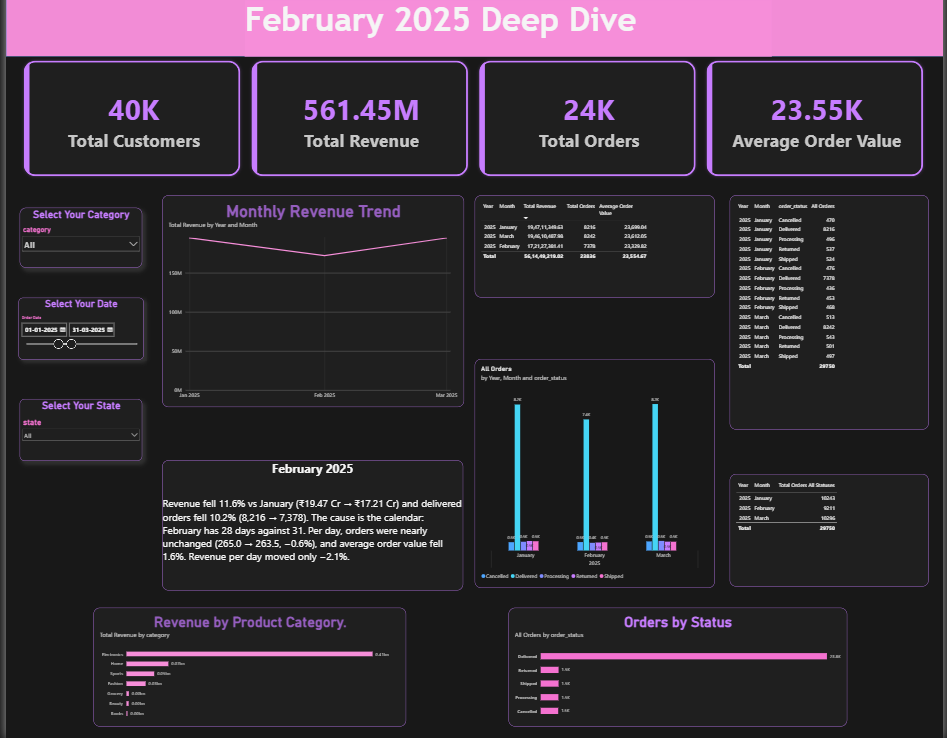

This screenshot's page, from the dashboard's own definition file:
{"tool":"powerbi","page":{"name":"February 2025 Deep Dive","canvas":[2500,2085],"ordinal":1},"visuals":[{"type":"shape","box":[0,0,2500,260],"z":0},{"type":"textbox","box":[40,32.5,1405,150],"z":1000},{"type":"cardVisual","fields":{"Data":["public customer.Total Customers","public sale.Total Revenue","public sale.Total Orders","public sale.Average Order Value"]},"box":[36.7,260,2423.3,330],"z":2000},{"type":"lineChart","title":"Monthly Revenue Trend","fields":{"Category":["public sale.order_date.Variation.Date Hierarchy.Year","public sale.order_date.Variation.Date Hierarchy.Month"],"Y":["public sale.Total Revenue"]},"box":[415,630,805,565],"z":3000},{"type":"clusteredBarChart","title":"Revenue by Product Category.","fields":{"Category":["public product.category"],"Y":["public sale.Total Revenue"]},"box":[233.3,1730,833.3,316.7],"z":4000},{"type":"slicer","title":"Select Your Category","fields":{"Values":["public product.category"]},"box":[37.5,662.5,326.7,160],"z":5000},{"type":"slicer","title":"Select Your Date","fields":{"Values":["public sale.order_date"]},"box":[32.5,902.5,333.3,165],"z":6000},{"type":"slicer","title":"Select Your State","fields":{"Values":["public customer.state"]},"box":[37.5,1172.5,326.7,165],"z":7000},{"type":"clusteredBarChart","title":"Orders by Status","fields":{"Category":["public sale.order_status"],"Y":["public sale.All Orders"]},"box":[1340,1730,903.3,316.7],"z":8000},{"type":"tableEx","fields":{"Values":["public sale.order_date.Variation.Date Hierarchy.Year","public sale.order_date.Variation.Date Hierarchy.Month","public sale.Total Revenue","public sale.Total Orders","public sale.Average Order Value"]},"box":[1250,630,640,272.5],"z":9000},{"type":"clusteredColumnChart","fields":{"Category":["public sale.order_date.Variation.Date Hierarchy.Year","public sale.order_date.Variation.Date Hierarchy.Month"],"Series":["public sale.order_status"],"Y":["public sale.All Orders"]},"box":[1250,1067.5,640,610],"z":10000},{"type":"tableEx","fields":{"Values":["public sale.order_date.Variation.Date Hierarchy.Year","public sale.order_date.Variation.Date Hierarchy.Month","public sale.order_status","public sale.All Orders"]},"box":[1930,630,530,625],"z":11000},{"type":"tableEx","fields":{"Values":["public sale.order_date.Variation.Date Hierarchy.Year","public sale.order_date.Variation.Date Hierarchy.Month","public sale.Total Orders All Statuses"]},"box":[1930,1372.5,530,300],"z":12000},{"type":"textbox","box":[415,1337.5,802.5,347.5],"z":13000}]}

Visuals, with their boxes on the page's 2500x2085 design canvas (x1, y1, x2, y2). These are canvas units, not pixel positions in the 947x738 screenshot, which may show the page scaled, cropped or inside an application window:
shape: {"left": 0, "top": 0, "right": 2500, "bottom": 260}
textbox: {"left": 40, "top": 32, "right": 1445, "bottom": 182}
cardVisual - public customer.Total Customers x public sale.Total Revenue: {"left": 37, "top": 260, "right": 2460, "bottom": 590}
"Monthly Revenue Trend" lineChart: {"left": 415, "top": 630, "right": 1220, "bottom": 1195}
"Revenue by Product Category." clusteredBarChart: {"left": 233, "top": 1730, "right": 1067, "bottom": 2047}
"Select Your Category" slicer: {"left": 38, "top": 662, "right": 364, "bottom": 822}
"Select Your Date" slicer: {"left": 32, "top": 902, "right": 366, "bottom": 1068}
"Select Your State" slicer: {"left": 38, "top": 1172, "right": 364, "bottom": 1338}
"Orders by Status" clusteredBarChart: {"left": 1340, "top": 1730, "right": 2243, "bottom": 2047}
tableEx - public sale.order_date.Variation.Date Hierarchy.Year x public sale.order_date.Variation.Date Hierarchy.Month: {"left": 1250, "top": 630, "right": 1890, "bottom": 902}
clusteredColumnChart - public sale.order_date.Variation.Date Hierarchy.Year x public sale.order_date.Variation.Date Hierarchy.Month: {"left": 1250, "top": 1068, "right": 1890, "bottom": 1678}
tableEx - public sale.order_date.Variation.Date Hierarchy.Year x public sale.order_date.Variation.Date Hierarchy.Month: {"left": 1930, "top": 630, "right": 2460, "bottom": 1255}
tableEx - public sale.order_date.Variation.Date Hierarchy.Year x public sale.order_date.Variation.Date Hierarchy.Month: {"left": 1930, "top": 1372, "right": 2460, "bottom": 1672}
textbox: {"left": 415, "top": 1338, "right": 1218, "bottom": 1685}
